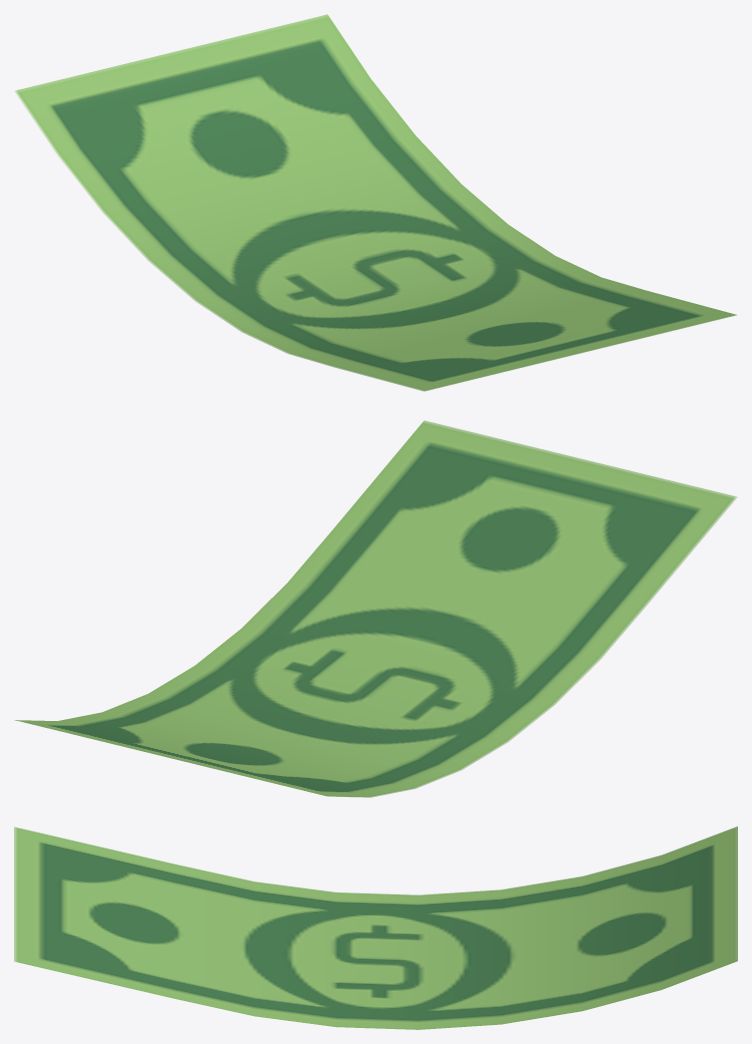
File: dollar.fbx
3 renders of one model, top to bottom at view 1: azimuth 30°, elevation 25°; view 2: azimuth 150°, elevation 25°; view 3: azimuth 270°, elevation 25°, orthographic. The views are drawn at different scales.
Visible parts, largest first — view 1: dollar_mesh; view 2: dollar_mesh; view 3: dollar_mesh.
Boxes of the visible parts, x1=… form: dollar_mesh: x1=14, y1=14, x2=737, y2=391; dollar_mesh: x1=14, y1=420, x2=737, y2=797; dollar_mesh: x1=14, y1=826, x2=737, y2=1029.
Bounding box in the file's own units: 394 × 93.53 × 893.
